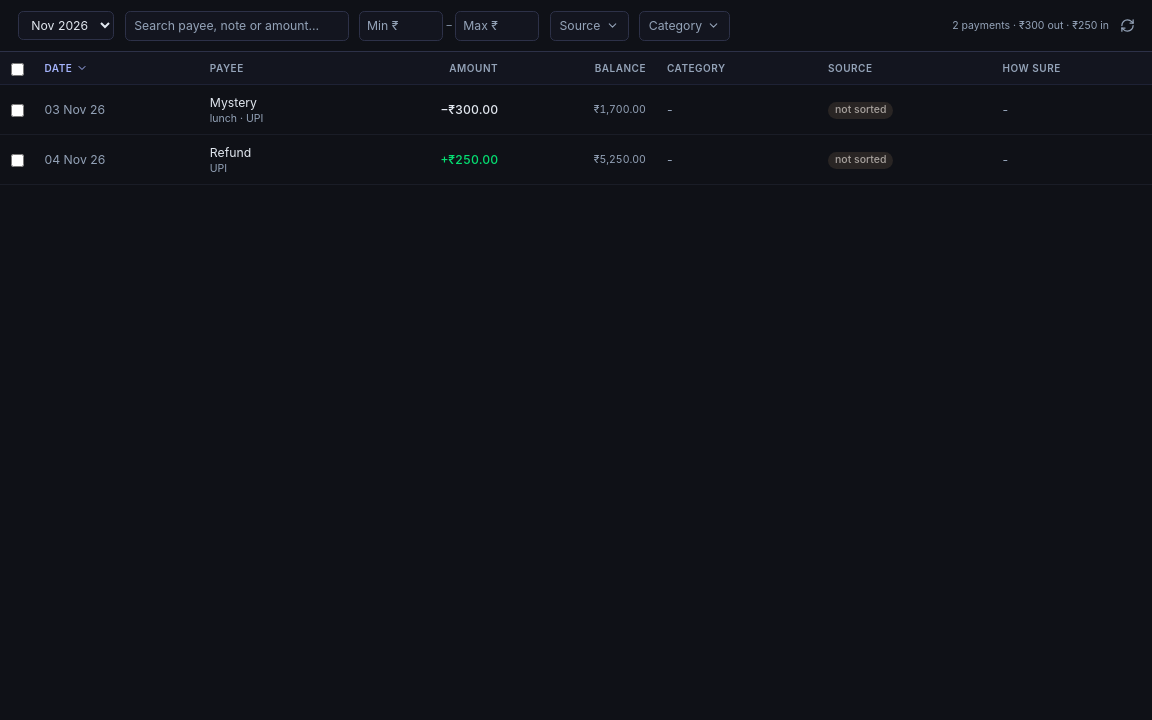
Test: Transactions when the API fails › does not open a payment as new when its details could not load, and Retry loads them
This screenshot has width=1152, height=720.
Click the text "Mystery" at (233,102), box [210,95,257,110]
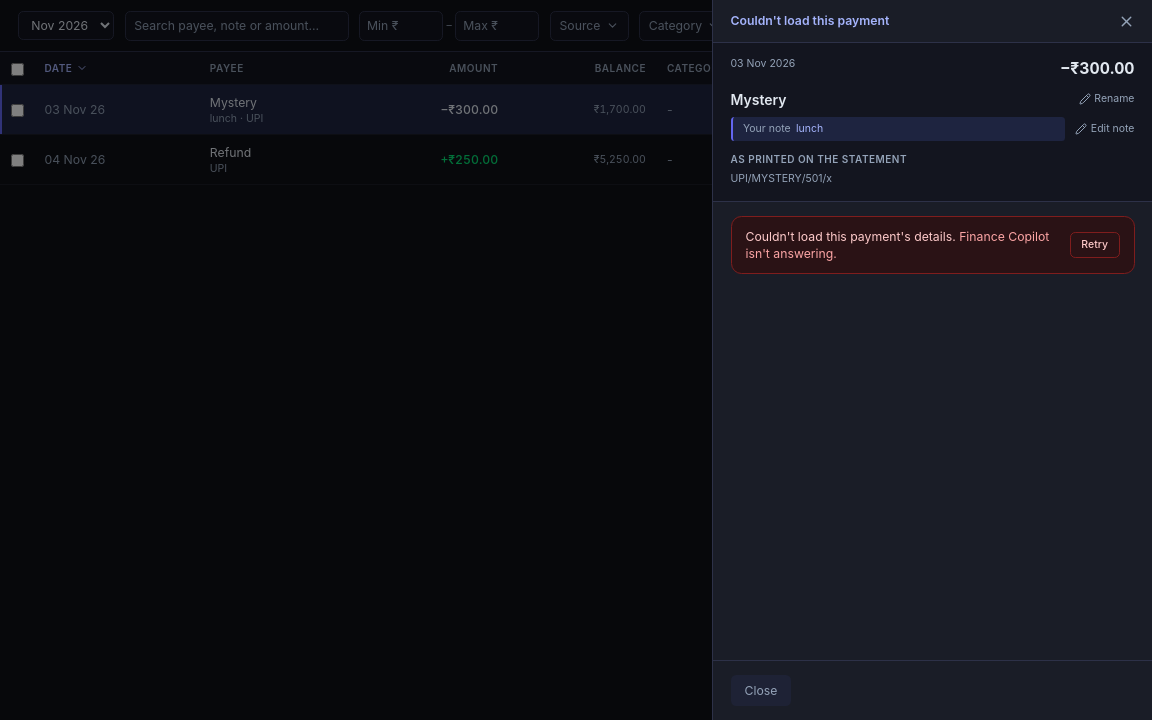
Check: the text "Sort this payment" is not shown
Check: the message shows "Couldn't load this payment's details.", box [730,216,1134,274]
Check: the heading "Couldn't load this payment" is shown, box [730,12,889,30]
Click the button "Retry" at (1095,245), box [1070,232,1120,258]
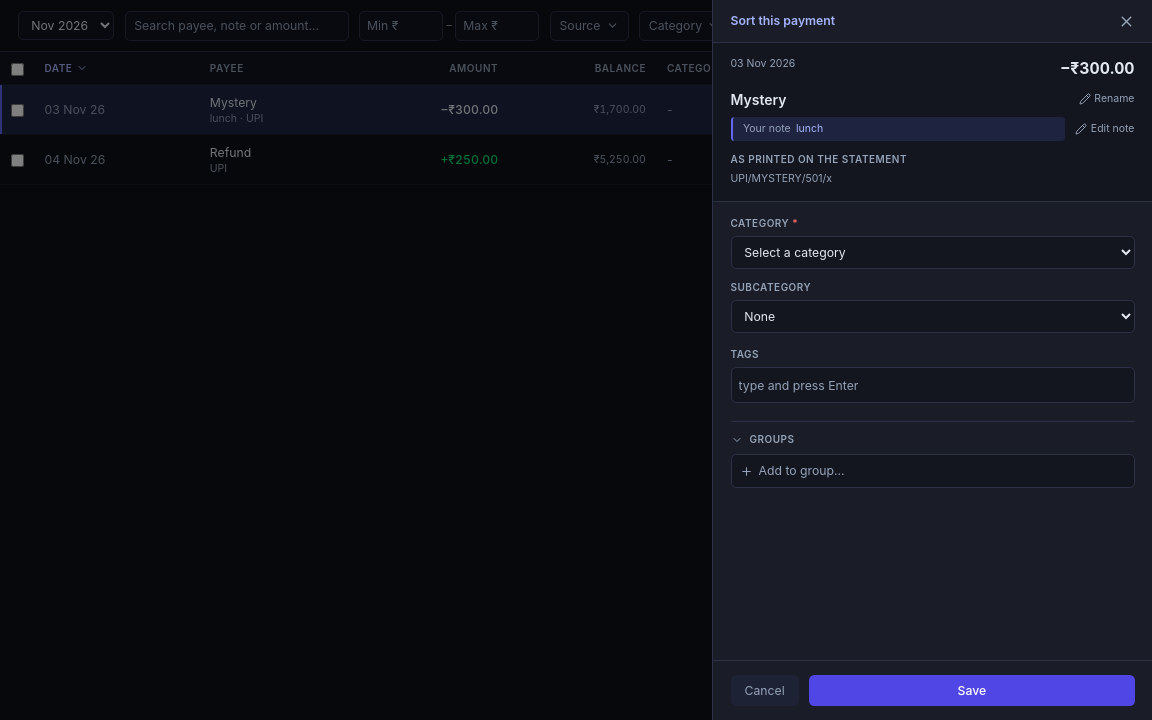
Check: the message "Couldn't load this payment's details.Finance Copilot isn't answering. Retry" is gone
Check: the button "Save" is enabled, box [809,674,1134,706]
Check: the heading "Sort this payment" is shown, box [730,12,835,30]
